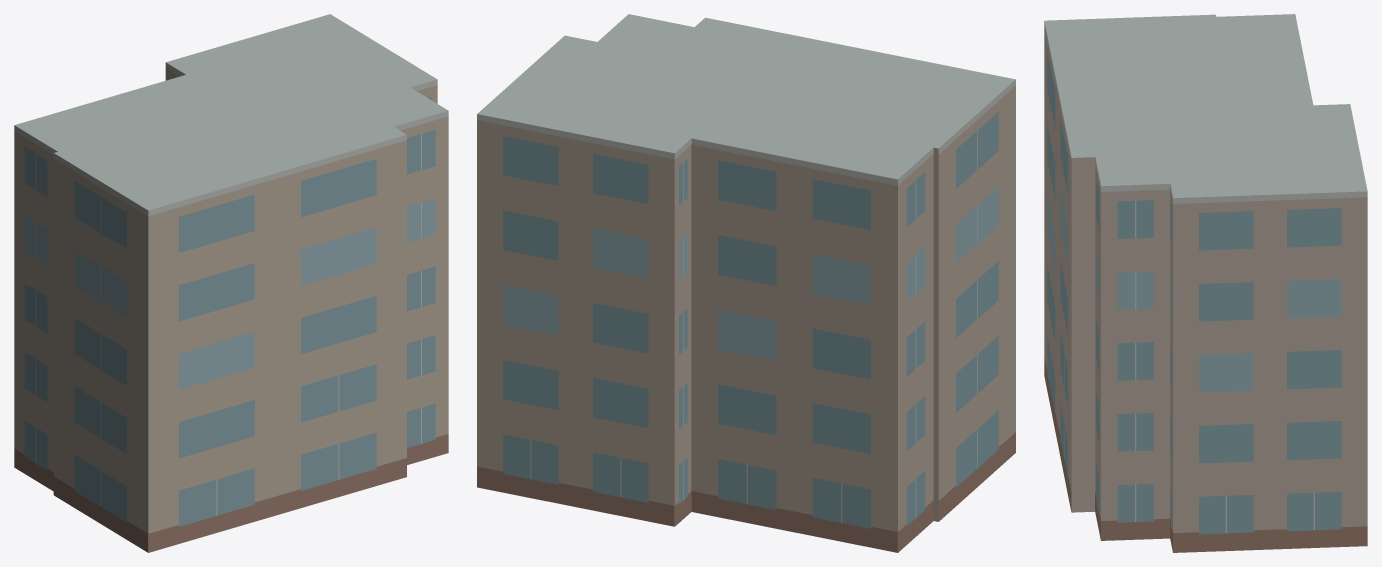
File: survey-upis-32665761.glb
3 renders of one model, left to right at view 1: azimuth 30°, elevation 25°; view 2: azimuth 150°, elevation 25°; view 3: azimuth 270°, elevation 25°, orthographic. The views are drawn at different scales.
Parts seen in each view (by area): view 1: survey-upis-32665761.tmp; view 2: survey-upis-32665761.tmp; view 3: survey-upis-32665761.tmp.
Boxes of the visible parts, left/top/right/bottom form: survey-upis-32665761.tmp: left=14, top=14, right=448, bottom=552; survey-upis-32665761.tmp: left=477, top=14, right=1015, bottom=552; survey-upis-32665761.tmp: left=1044, top=14, right=1367, bottom=552.
Size of the model in its own units: 16.5 by 14.8 by 12.24.
